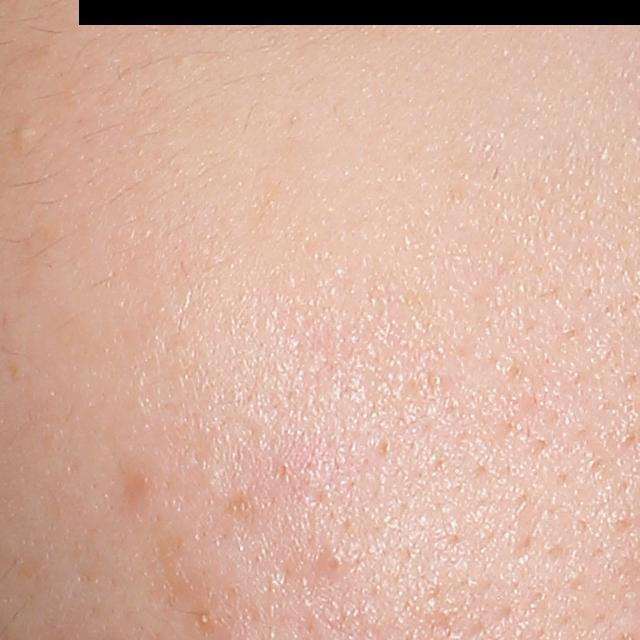comedo: (9, 119, 40, 149), (322, 550, 344, 575)
